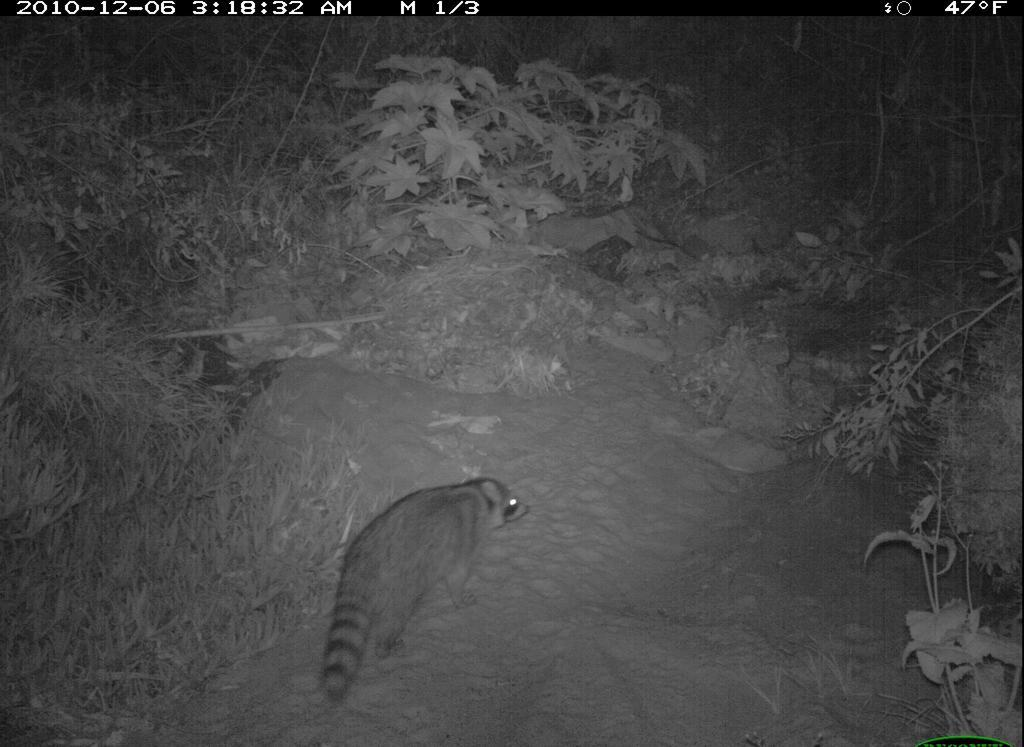raccoon: (310, 472, 536, 698)
